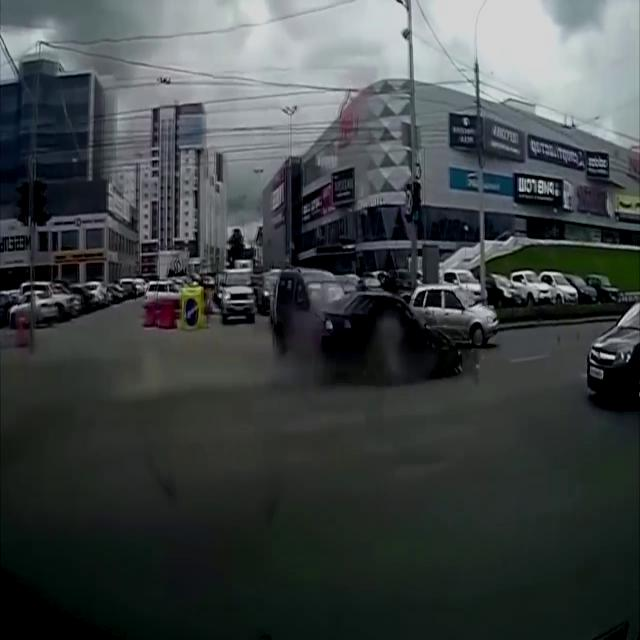accident: (274, 272, 500, 378)
non-accident: (2, 274, 146, 330), (498, 273, 620, 309)
